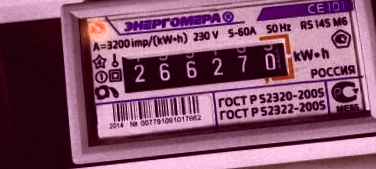0: (262, 49, 276, 71)
2: (130, 61, 146, 83), (209, 54, 223, 76)
6: (182, 58, 197, 78), (157, 60, 171, 81)
7: (234, 52, 249, 74)
screen: (110, 28, 301, 103)
